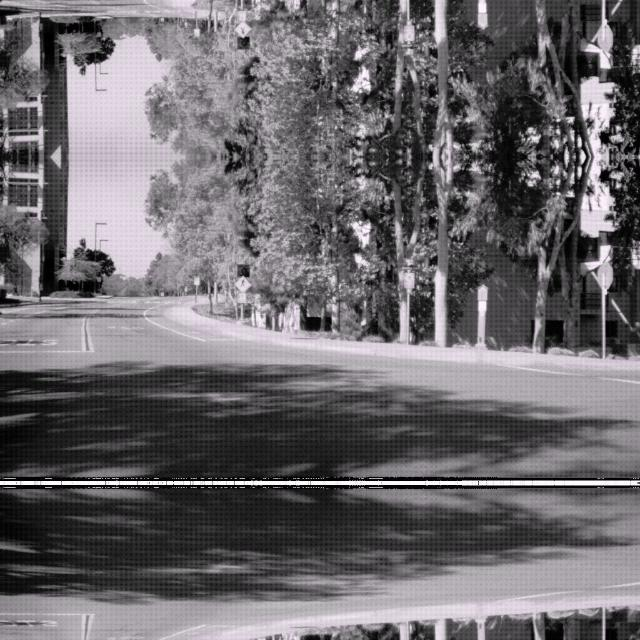pedestrianCrossing: (233, 274, 251, 292), (233, 20, 251, 38)
